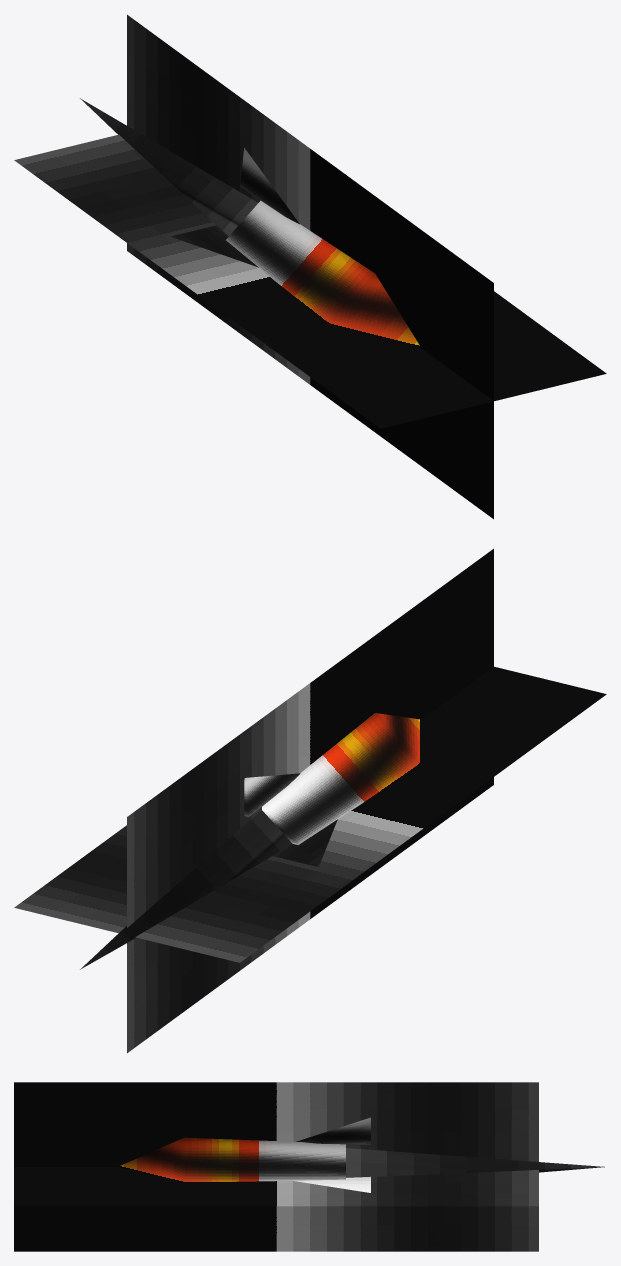
The model's file is datan_common_bazukam_acb066fd.obj.
The picture shows the model from 3 angles, top to bottom: view 1: azimuth 30°, elevation 25°; view 2: azimuth 150°, elevation 25°; view 3: azimuth 270°, elevation 25°; orthographic projection. The views are drawn at different scales.
Parts seen in each view (by area): view 1: datan_common_bazukam_acb066fd_mesh02, datan_common_bazukam_acb066fd_mesh01, datan_common_bazukam_acb066fd_mesh00; view 2: datan_common_bazukam_acb066fd_mesh02, datan_common_bazukam_acb066fd_mesh01, datan_common_bazukam_acb066fd_mesh00; view 3: datan_common_bazukam_acb066fd_mesh02, datan_common_bazukam_acb066fd_mesh01, datan_common_bazukam_acb066fd_mesh00.
Part boxes in pixels (left/top/right/bottom): datan_common_bazukam_acb066fd_mesh02: left=14, top=14, right=606, bottom=519; datan_common_bazukam_acb066fd_mesh01: left=171, top=148, right=421, bottom=348; datan_common_bazukam_acb066fd_mesh00: left=80, top=98, right=257, bottom=235; datan_common_bazukam_acb066fd_mesh02: left=14, top=548, right=606, bottom=1053; datan_common_bazukam_acb066fd_mesh01: left=244, top=713, right=421, bottom=866; datan_common_bazukam_acb066fd_mesh00: left=80, top=810, right=292, bottom=969; datan_common_bazukam_acb066fd_mesh02: left=14, top=1082, right=538, bottom=1251; datan_common_bazukam_acb066fd_mesh01: left=118, top=1117, right=370, bottom=1192; datan_common_bazukam_acb066fd_mesh00: left=346, top=1148, right=604, bottom=1177.
Bounding box in the file's own units: 0.7451 × 0.7451 × 2.37.
Materials: 1 (1 with a texture image).
